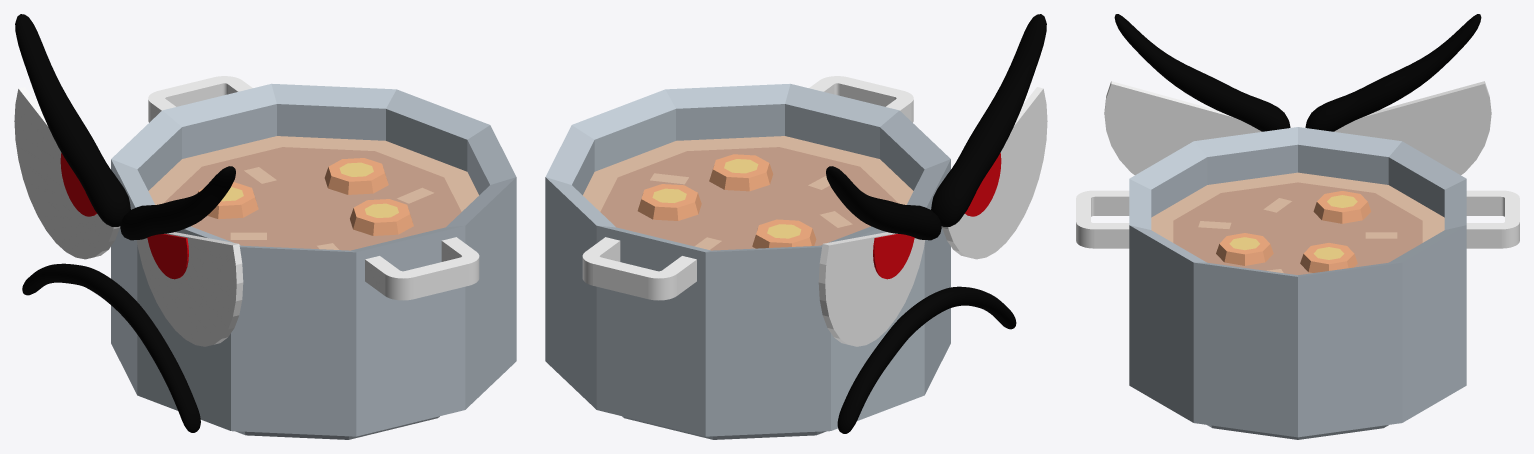
File: Pot V2.fbx
3 views of the same model, side by side, from view 1: azimuth 30°, elevation 25°; view 2: azimuth 150°, elevation 25°; view 3: azimuth 270°, elevation 25° (orthographic). The views are drawn at different scales.
Parts seen in each view (by area): view 1: potStew.002; view 2: potStew.002; view 3: potStew.002.
Boxes of the visible parts, box(x1,y1,x2,y2) form: potStew.002: box(14, 14, 516, 439); potStew.002: box(545, 14, 1047, 439); potStew.002: box(1076, 14, 1519, 439).
Bounding box in the file's own units: 70.93 × 58.05 × 82.21.
